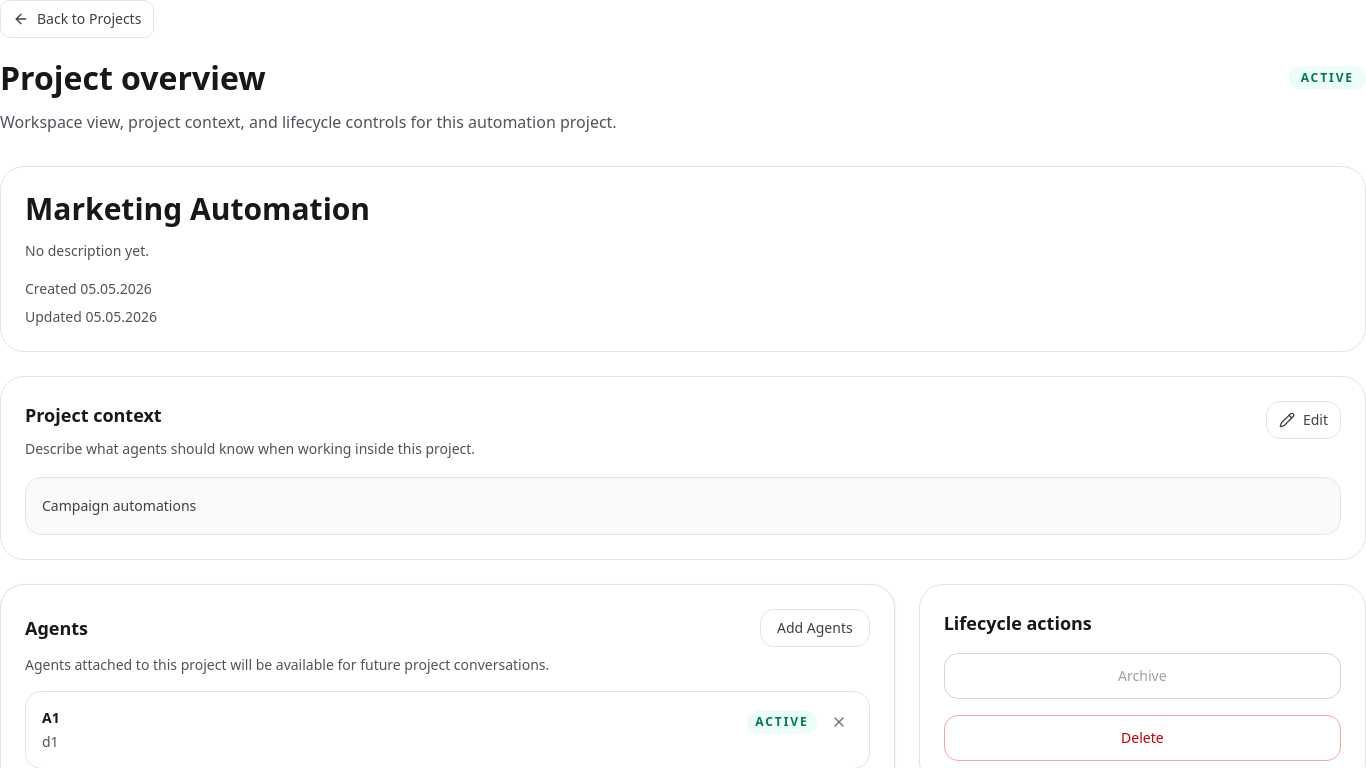
Test: AgentProjectDetailsPage › opens add agents sheet and filters already attached agents
The image size is (1366, 768).
Expected: the button "Marketing Automation" is shown, [25,191,370,227]
Click the button "Add Agents". click: (815, 628)
box: [760,609,870,647]
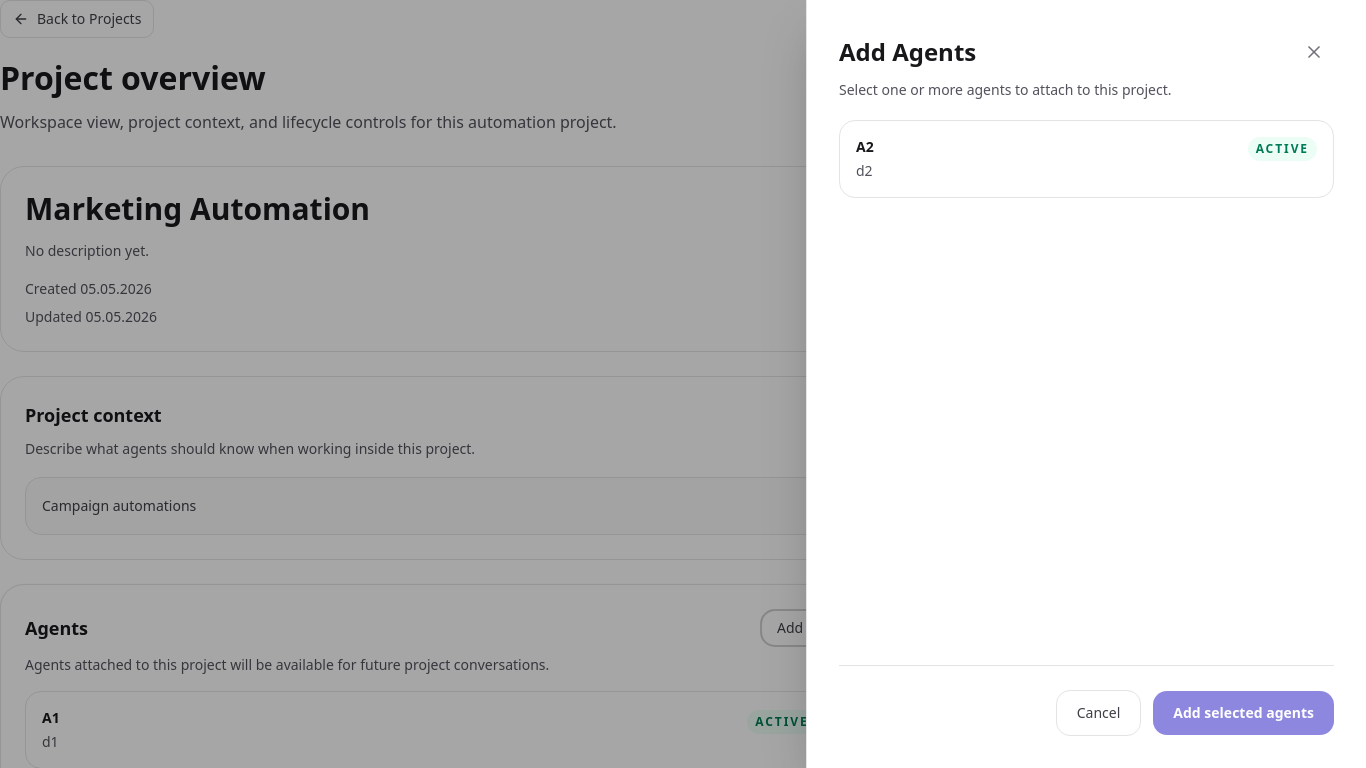
Expected: the heading "Add Agents" is shown, [839,35,976,69]
Expected: the text "A1" is shown once, [42,708,60,728]
Expected: the text "A2" is shown, [856,137,874,157]
